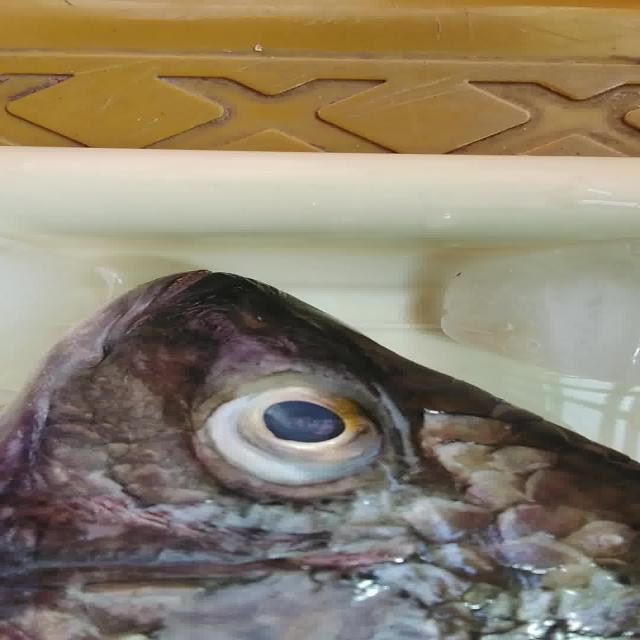Fresh: (182, 364, 423, 504)
